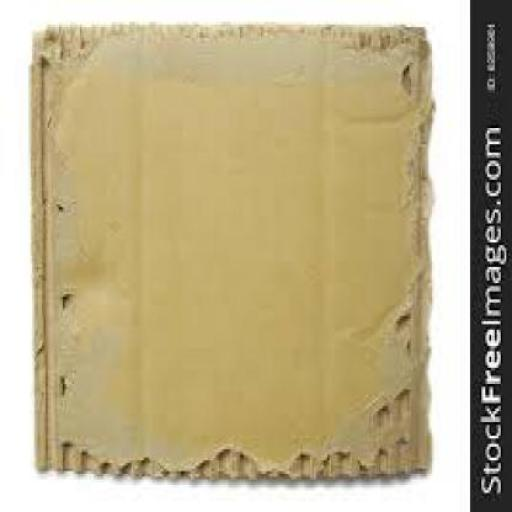cardboard: (29, 22, 430, 480)
